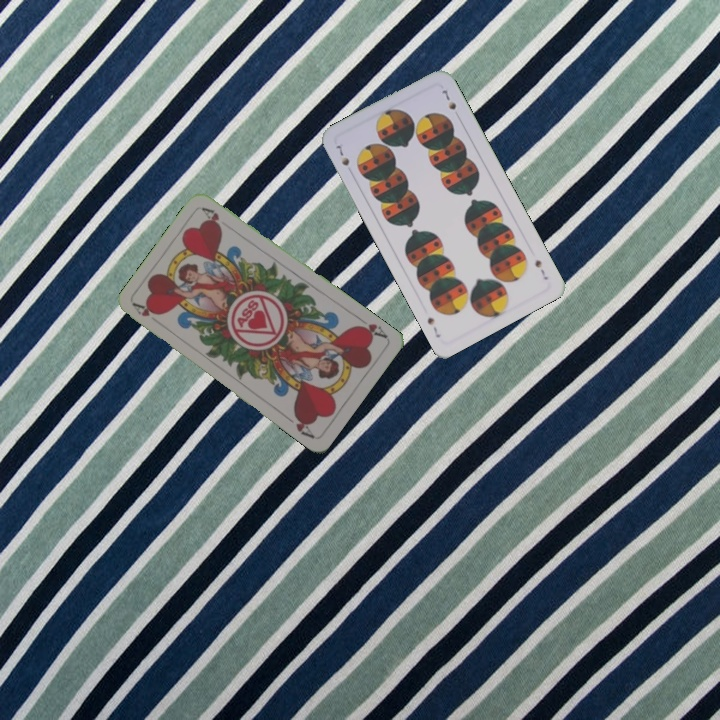HA: (352, 313, 390, 341), (129, 299, 162, 319)
S7: (332, 141, 352, 169), (531, 256, 551, 283)
